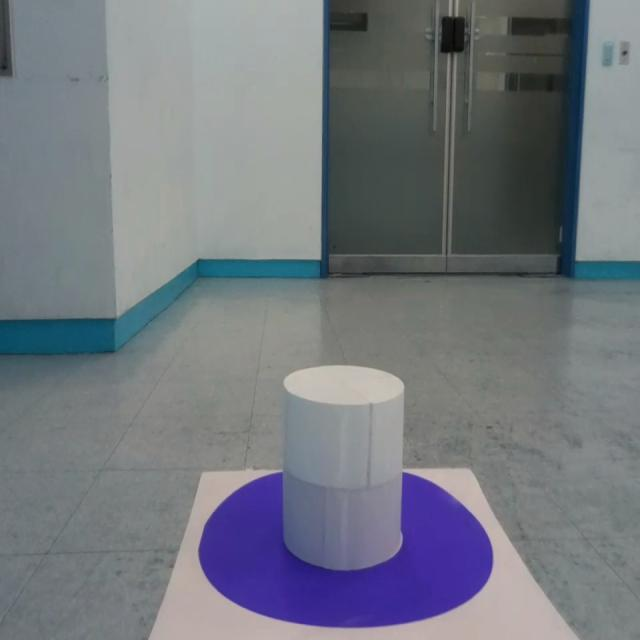cylinder: (279, 365, 404, 572)
